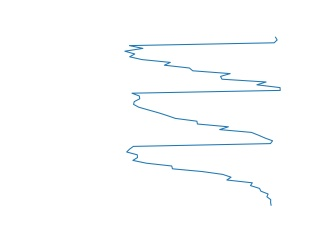distributaryMouthBar: (123, 37, 283, 207)
